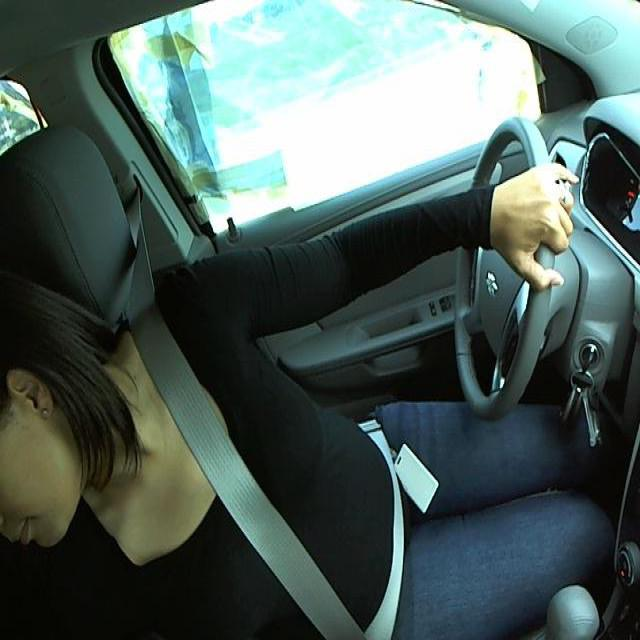seatbelt: (146, 344, 350, 639)
